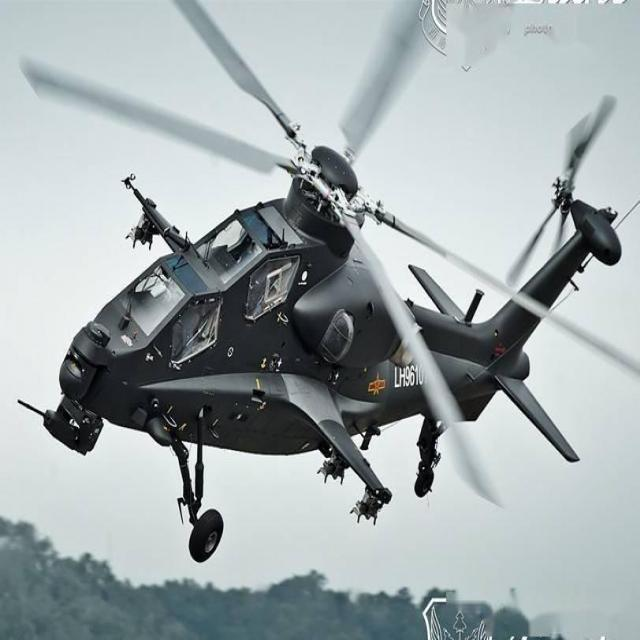MIL_HELO: (32, 0, 637, 538)
